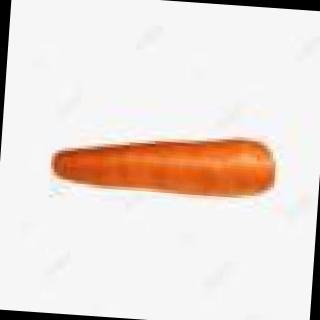Wortel: (22, 107, 289, 246)
